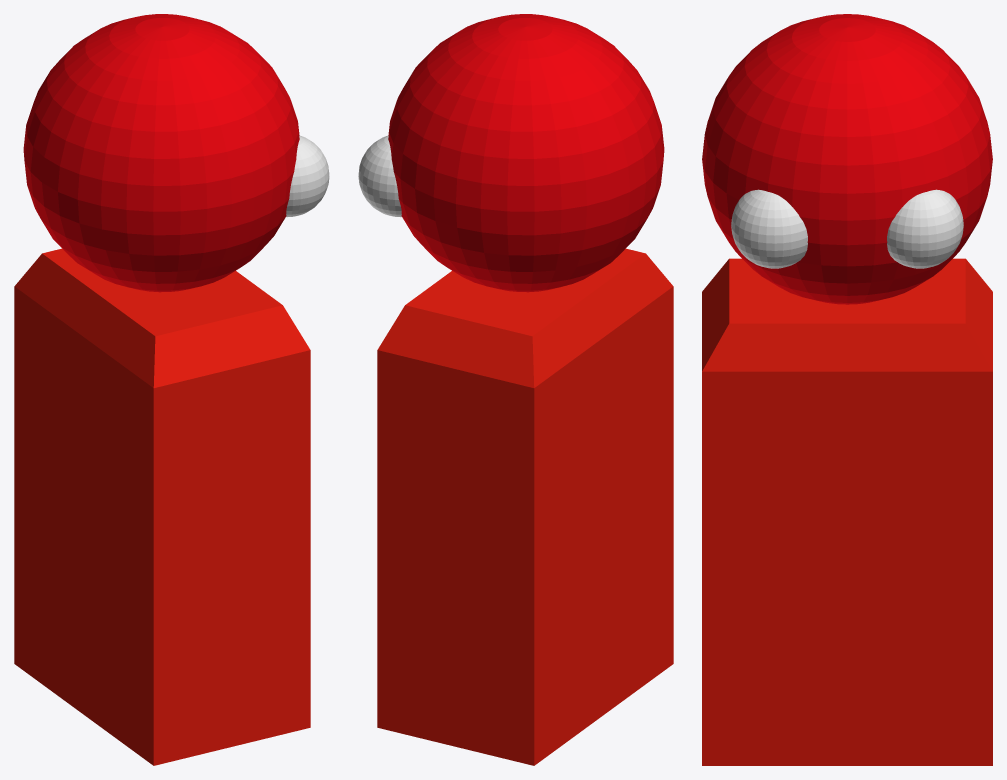
The model's file is player.glb.
3 views of the same model, side by side, from view 1: azimuth 30°, elevation 25°; view 2: azimuth 150°, elevation 25°; view 3: azimuth 270°, elevation 25° (orthographic). The views are drawn at different scales.
Parts seen in each view (by area): view 1: Cube, Sphere, Sphere.001; view 2: Cube, Sphere, Sphere.002; view 3: Cube, Sphere, Sphere.001, Sphere.002.
Boxes of the visible parts, <box> form: Cube: <box>14,248,310,765</box>; Sphere: <box>23,14,299,292</box>; Sphere.001: <box>286,135,329,217</box>; Cube: <box>377,248,673,765</box>; Sphere: <box>388,14,664,292</box>; Sphere.002: <box>358,135,401,217</box>; Cube: <box>702,258,992,765</box>; Sphere: <box>702,14,992,304</box>; Sphere.001: <box>731,189,807,268</box>; Sphere.002: <box>887,189,963,268</box>.
Bounding box in the file's own units: 0.41 × 1.06 × 0.4.
